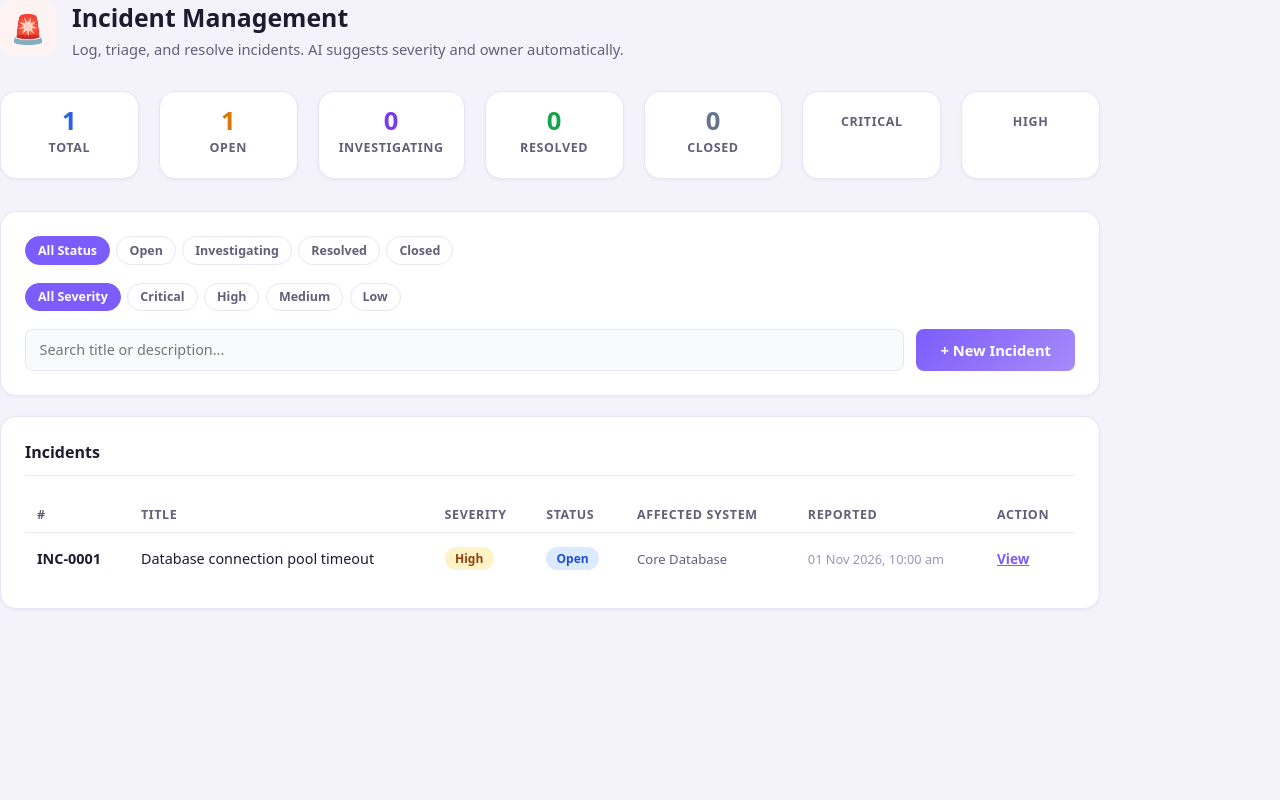
IncidentManagement AI Triage › shows manual selection prompt when incident has no AI recommendation
Click the row with class "clickable-row": (550, 558) [25,533,1075,584]
(page scrolled)
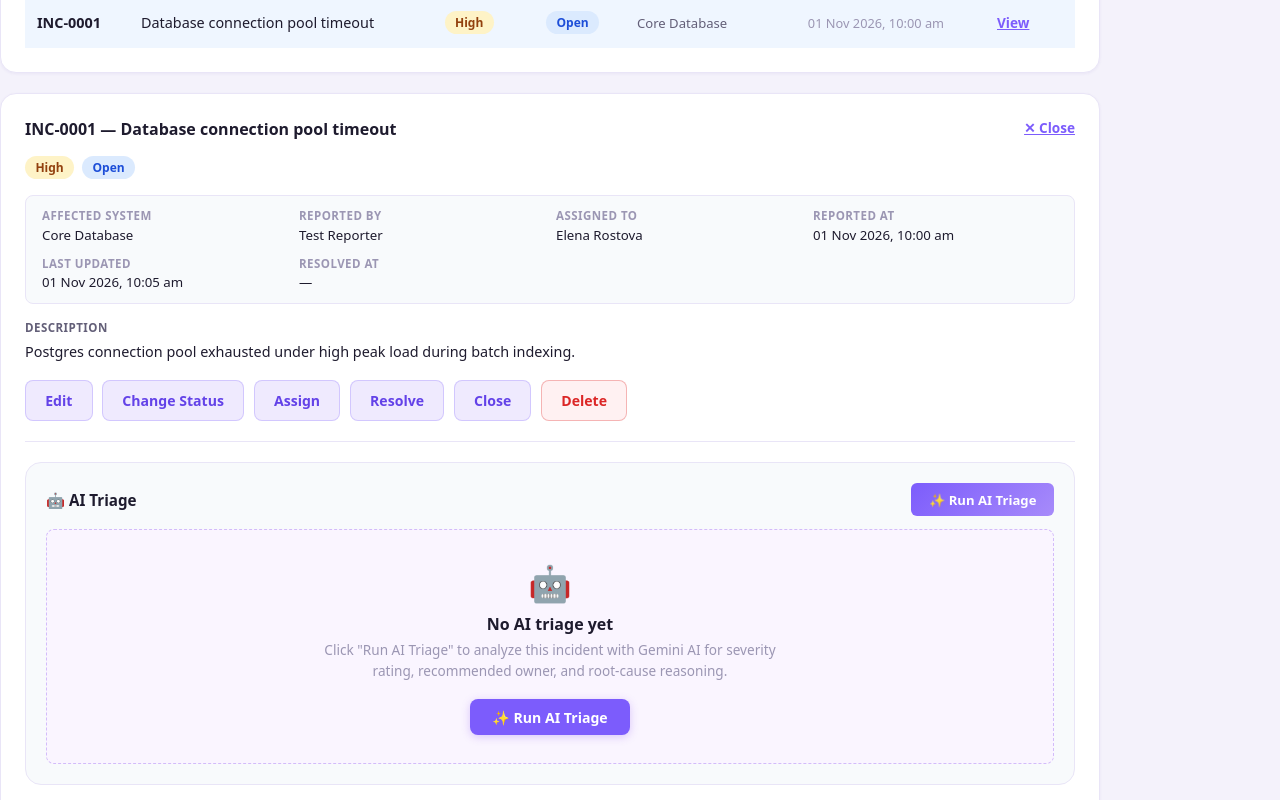
Click the button "Assign": (297, 400) [254,380,340,421]
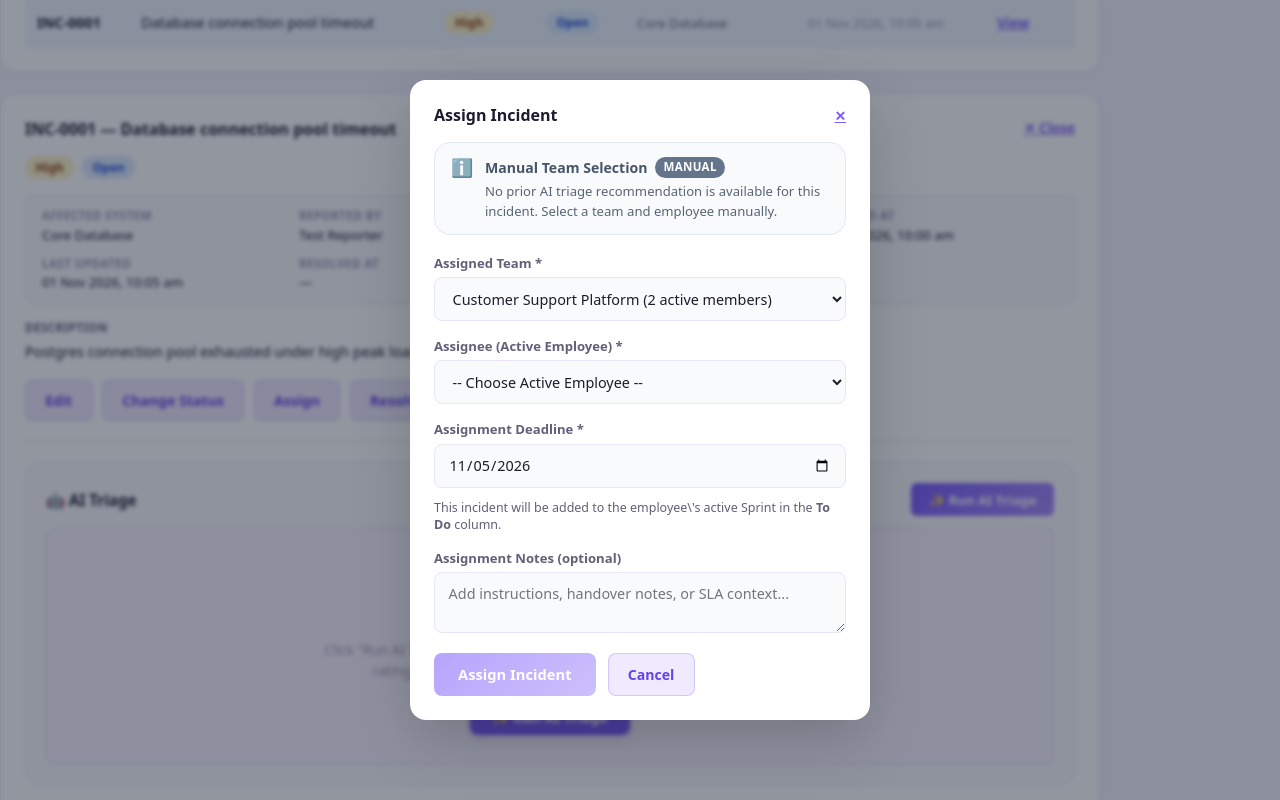
Result: the dialog with class "modal-overlay" is shown
Result: the element with test id "ai-rec-none" is shown at [434,142,846,235]
Result: the element with test id "ai-rec-none" shows "Manual Team Selection" at [485,158,648,176]
